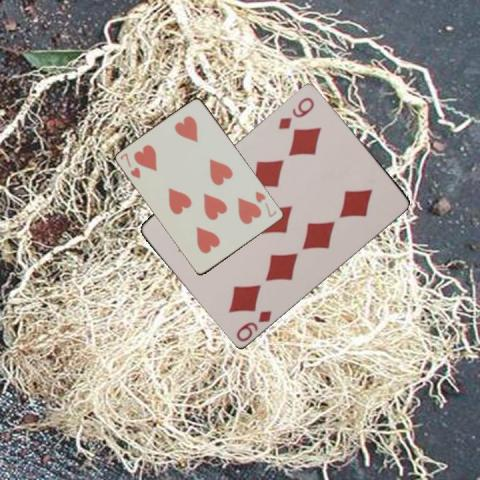7h: (253, 188, 278, 219), (117, 150, 142, 180)
9d: (275, 93, 316, 131), (233, 307, 273, 343)
